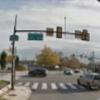crosswalks: (12, 79, 87, 92)
